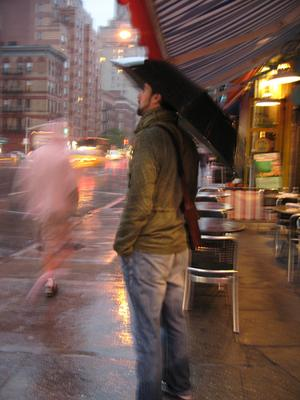person: (114, 72, 198, 400)
